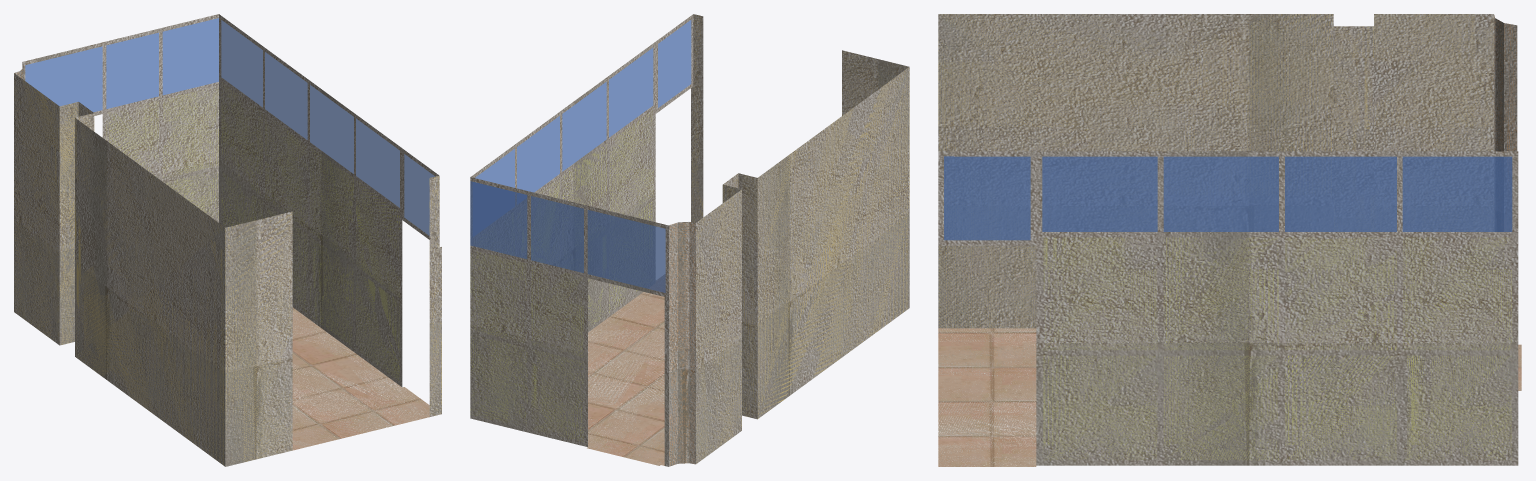
The model's file is COM017.obj.
The picture shows the model from 3 angles, left to right: view 1: azimuth 30°, elevation 25°; view 2: azimuth 150°, elevation 25°; view 3: azimuth 270°, elevation 25°; orthographic projection. The views are drawn at different scales.
Parts seen in each view (by area): view 1: Mesh1 COM017 Model; view 2: Mesh1 COM017 Model; view 3: Mesh1 COM017 Model.
Part boxes in pixels (box(x1,y1,x2,y2)): Mesh1 COM017 Model: box(14, 14, 441, 466); Mesh1 COM017 Model: box(470, 14, 909, 466); Mesh1 COM017 Model: box(938, 14, 1521, 466).
Size of the model in its own units: 2.84 by 3 by 5.05.
6 materials, 2 textured.
